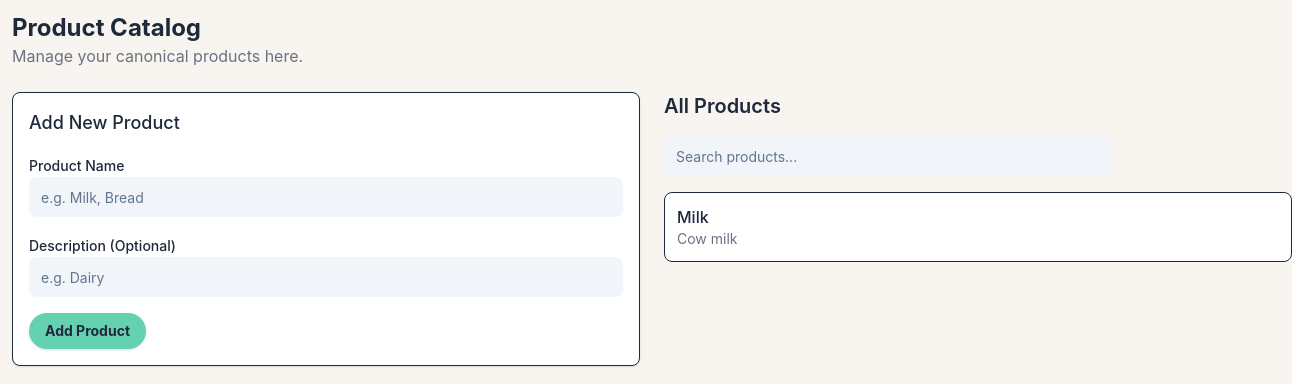
Test case: Products Features › filters products based on search
Check: the text "Milk" is shown, box top-left (677, 207), bottom-right (709, 227)
Type "Bread" into the search field with placeholder "Search products..." at coordinates (888, 156), box top-left (664, 136), bottom-right (1112, 176)
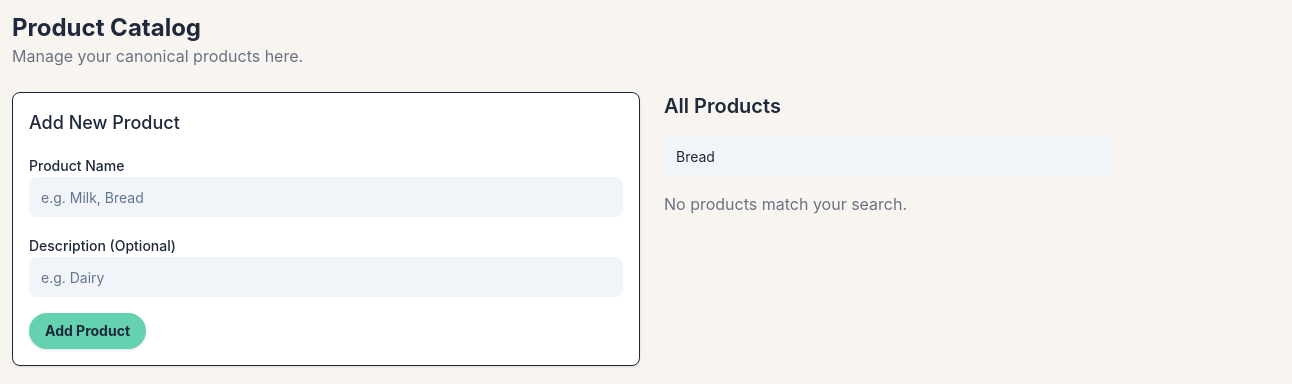
Check: the text "No products match your search." is shown, box top-left (664, 194), bottom-right (907, 214)
Replace the text in the search field with placeholder "Search products..." with "Milk" at coordinates (888, 156), box top-left (664, 136), bottom-right (1112, 176)
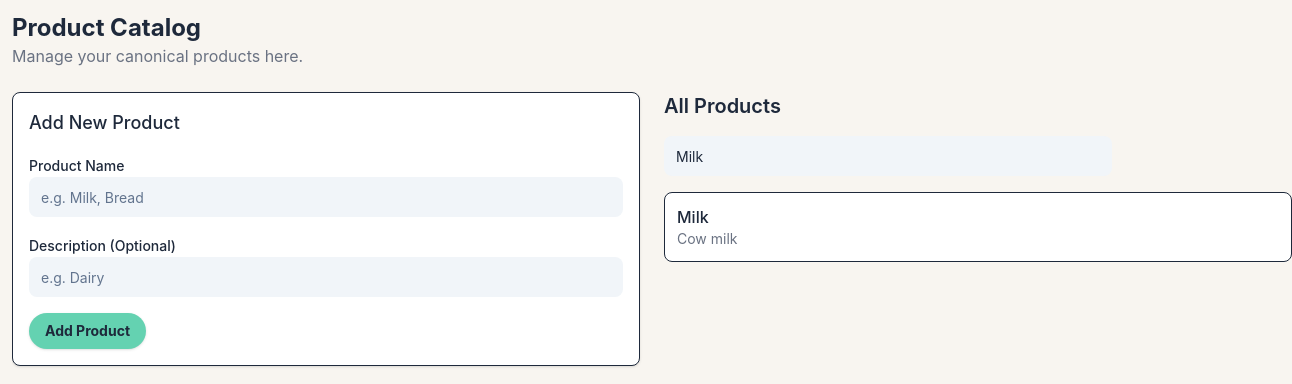
Check: the text "Milk" is shown, box top-left (677, 207), bottom-right (709, 227)
